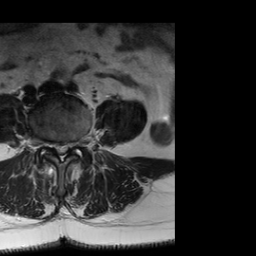CCS_normal: (58, 136, 63, 165)
LFS_stenosis: (70, 136, 79, 155)
LLS_stenosis: (64, 136, 70, 159)
RFS_stenosis: (44, 136, 52, 155)
RLS_stenosis: (52, 135, 58, 159)
